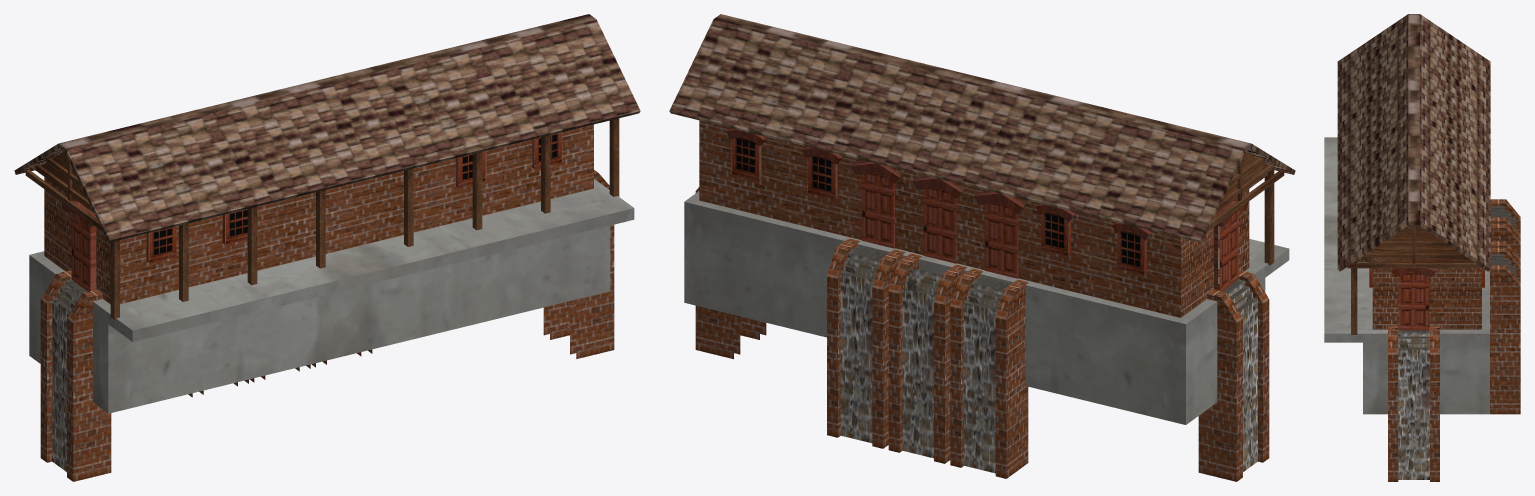
Rendered from train_station.dae.
The picture shows the model from 3 angles, left to right: view 1: azimuth 30°, elevation 25°; view 2: azimuth 150°, elevation 25°; view 3: azimuth 270°, elevation 25°; orthographic projection. The views are drawn at different scales.
Parts seen in each view (by area): view 1: train_station; view 2: train_station; view 3: train_station.
Boxes of the visible parts, bbox=[...] form: train_station: bbox=[14, 14, 640, 481]; train_station: bbox=[669, 14, 1295, 481]; train_station: bbox=[1324, 14, 1520, 481].
Bounding box in the file's own units: 33.63 × 13.18 × 19.41.
